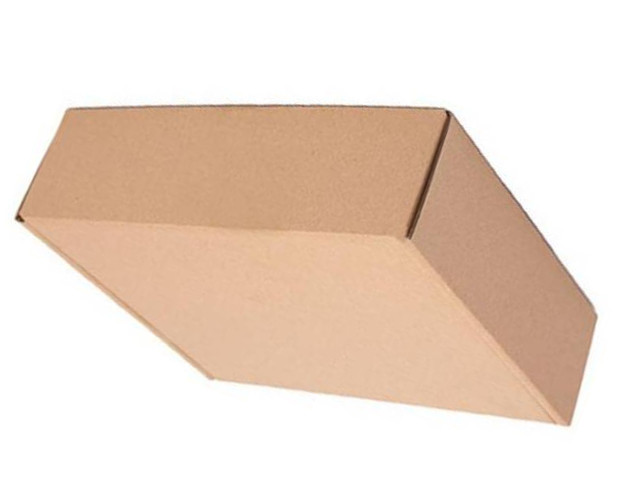cardboard: (16, 102, 599, 427)
